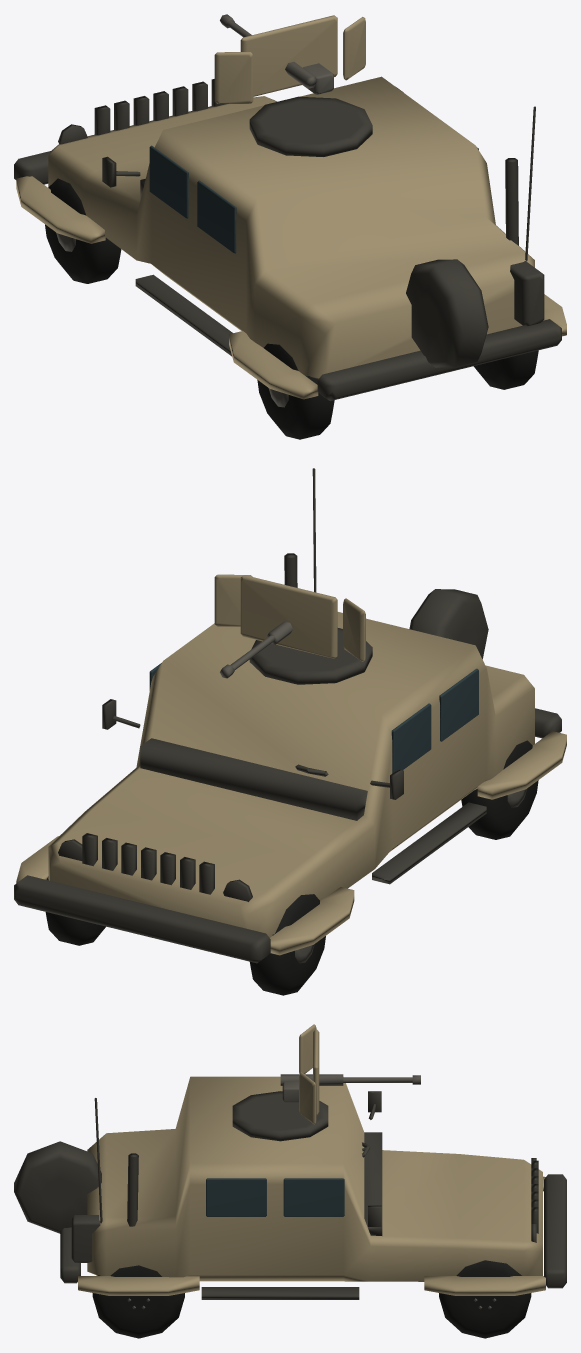
File: military_car_gunner.glb
3 views of the same model, one above another, from view 1: azimuth 30°, elevation 25°; view 2: azimuth 150°, elevation 25°; view 3: azimuth 270°, elevation 25° (orthographic). The views are drawn at different scales.
Parts seen in each view (by area): view 1: Hull, Trim, Turret_Shield, Glass, Wheel_FL_Tyre, Wheel_RL_Tyre, Wheel_RR_Tyre, Turret_Gun; view 2: Hull, Trim, Turret_Shield, Glass, Wheel_FL_Tyre, Wheel_RL_Tyre, Wheel_FR_Tyre, Turret_Gun; view 3: Hull, Trim, Glass, Wheel_FR_Tyre, Wheel_RR_Tyre, Turret_Shield, Turret_Gun.
Part boxes in pixels (x1,y1,x2,y2): Hull: (16, 76, 566, 399); Trim: (14, 79, 561, 400); Turret_Shield: (214, 15, 365, 103); Glass: (149, 145, 478, 253); Wheel_FL_Tyre: (45, 178, 121, 283); Wheel_RL_Tyre: (257, 343, 334, 439); Wheel_RR_Tyre: (473, 350, 538, 389); Turret_Gun: (220, 14, 333, 94); Hull: (16, 612, 566, 955); Trim: (14, 468, 561, 963); Turret_Shield: (214, 574, 365, 661); Glass: (149, 663, 478, 773); Wheel_FL_Tyre: (250, 894, 325, 995); Wheel_RL_Tyre: (461, 740, 538, 839); Wheel_FR_Tyre: (45, 876, 105, 945); Turret_Gun: (220, 621, 292, 678); Hull: (78, 1076, 545, 1295); Trim: (14, 1091, 566, 1299); Glass: (206, 1178, 344, 1216); Wheel_FR_Tyre: (439, 1260, 531, 1338); Wheel_RR_Tyre: (92, 1265, 184, 1338); Turret_Shield: (299, 1024, 319, 1124); Turret_Gun: (280, 1074, 420, 1102).
Size of the model in its own units: 2.63 by 2.59 by 5.27.
